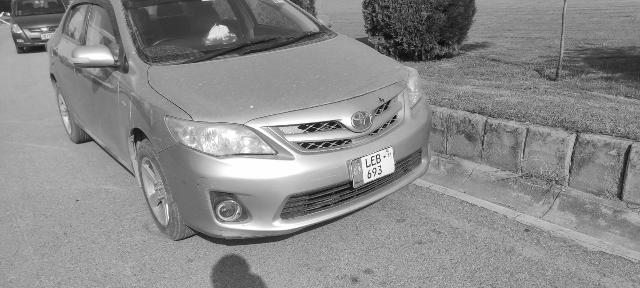Number: (363, 152, 385, 181)
